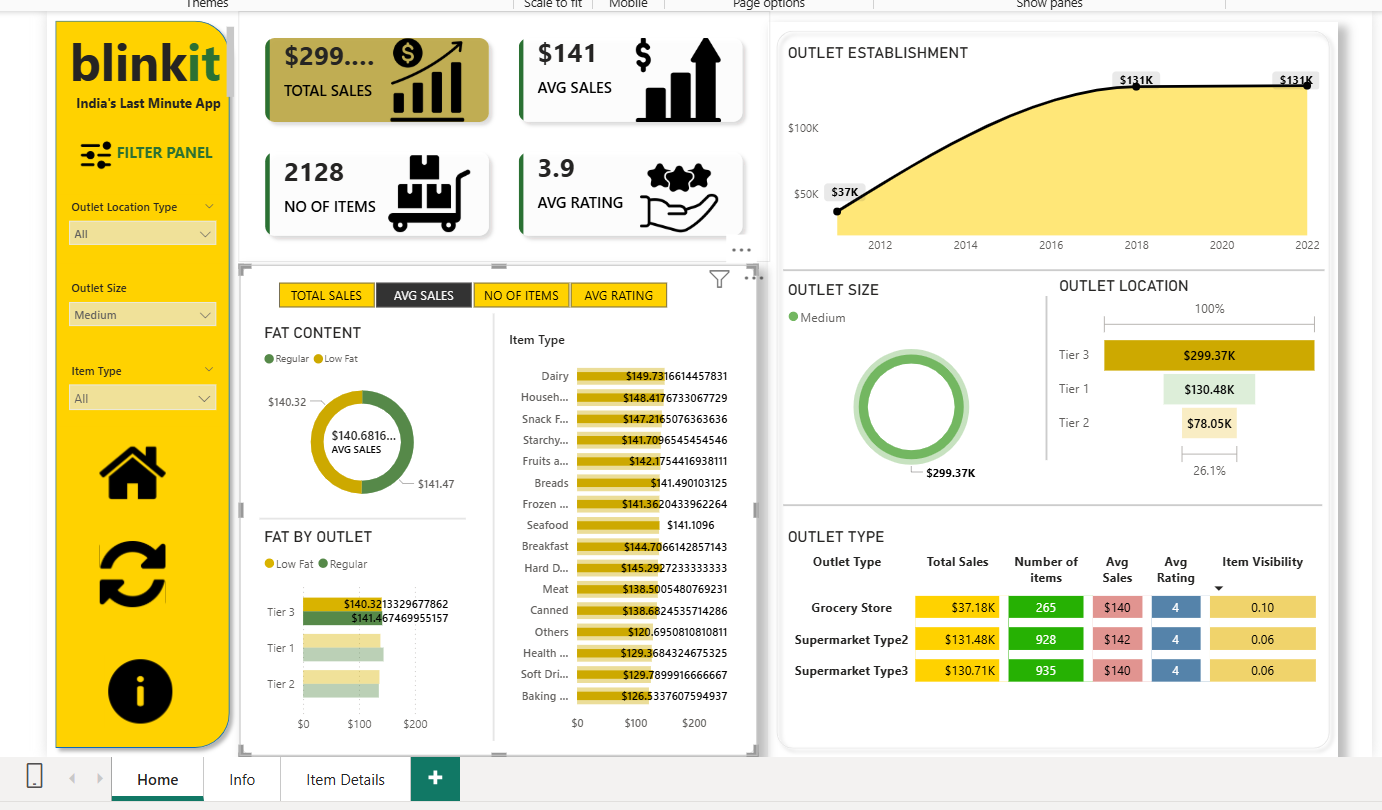

This screenshot's page, from the dashboard's own definition file:
{"tool":"powerbi","page":{"name":"Home","canvas":[1420,800],"ordinal":0},"visuals":[{"type":"shape","box":[0,1,205,798],"z":0},{"type":"textbox","box":[13.7,12.2,191.8,91.3],"z":1000},{"type":"textbox","box":[14,84,178.1,38],"z":2000},{"type":"cardVisual","fields":{"Data":["BlinkIT Grocery Data.TOTAL SALES","BlinkIT Grocery Data.AVG SALES","BlinkIT Grocery Data.NO OF ITEMS","BlinkIT Grocery Data.AVG RATING"]},"box":[205,0,570,270],"z":3000},{"type":"textbox","box":[70,135,122,38],"z":4000},{"type":"image","box":[35,135,35,38],"z":5000},{"type":"areaChart","title":" OUTLET ESTABLISHMENT","fields":{"Category":["BlinkIT Grocery Data.Outlet Establishment Year"],"Y":["BlinkIT Grocery Data.TOTAL SALES"]},"box":[789,35,580,235],"z":6000},{"type":"shape","box":[789,270,580.4,17],"z":7000},{"type":"donutChart","title":"OUTLET SIZE","fields":{"Y":["BlinkIT Grocery Data.TOTAL SALES"],"Category":["BlinkIT Grocery Data.Outlet Size"]},"box":[789,288.2,275,224],"z":8000},{"type":"shape","box":[1064,305,15,176],"z":9000},{"type":"funnel","title":"OUTLET LOCATION","fields":{"Category":["BlinkIT Grocery Data.Outlet Location Type"],"Y":["Sum(BlinkIT Grocery Data.Sales)"]},"box":[1080,284,289,224],"z":10000},{"type":"shape","box":[790,518,578,25],"z":11000},{"type":"pivotTable","title":"OUTLET TYPE","fields":{"Rows":["BlinkIT Grocery Data.Outlet Type"],"Values":["BlinkIT Grocery Data.TOTAL SALES","BlinkIT Grocery Data.NO OF ITEMS","BlinkIT Grocery Data.AVG SALES","BlinkIT Grocery Data.AVG RATING","Avg(BlinkIT Grocery Data.Item Visibility)"]},"box":[790,553,580,217.6],"z":12000},{"type":"shape","box":[774,12.5,611.1,788],"z":13000},{"type":"barChart","title":" Item Type","fields":{"Y":["BlinkIT Grocery Data.TOTAL SALES"],"Category":["BlinkIT Grocery Data.Item Type"]},"box":[490.3,343.1,258.3,438.9],"z":14000},{"type":"donutChart","title":"FAT CONTENT","fields":{"Y":["BlinkIT Grocery Data.TOTAL SALES"],"Category":["BlinkIT Grocery Data.Item Fat Content"]},"box":[227.3,335.1,220.8,207.8],"z":15000},{"type":"clusteredBarChart","title":"FAT BY OUTLET","fields":{"Y":["BlinkIT Grocery Data.TOTAL SALES"],"Category":["BlinkIT Grocery Data.Outlet Location Type"],"Series":["BlinkIT Grocery Data.Item Fat Content"]},"box":[227.3,553.2,221,229],"z":16000},{"type":"slicer","fields":{"Values":["Metrics.Metrics"]},"box":[223,284,466,39],"z":17000},{"type":"cardVisual","fields":{"Data":["BlinkIT Grocery Data.TOTAL SALES"]},"box":[288.3,427.3,107.8,67.5],"z":18000},{"type":"shape","box":[227.6,534.8,221.2,19.1],"z":19000},{"type":"shape","box":[467.9,324.7,22.3,458.4],"z":20000},{"type":"shape","box":[206,272,555,527],"z":21000},{"type":"slicer","fields":{"Values":["BlinkIT Grocery Data.Outlet Location Type"]},"box":[14,197.5,178.2,73.4],"z":22000},{"type":"slicer","fields":{"Values":["BlinkIT Grocery Data.Outlet Size"]},"box":[14,284.8,178.2,73.4],"z":23000},{"type":"slicer","fields":{"Values":["BlinkIT Grocery Data.Item Type"]},"box":[13,372,178,73],"z":24000},{"type":"actionButton","box":[52,564,79,79],"z":25000},{"type":"actionButton","box":[52,456,79,79],"z":26000},{"type":"actionButton","box":[61.1,690.3,77,79],"z":27000}]}

Visuals, with their boxes on the page's 1420x800 design canvas (x1, y1, x2, y2). These are canvas units, not pixel positions in the 1382x810 screenshot, which may show the page scaled, cropped or inside an application window:
shape: box(0, 1, 205, 799)
textbox: box(14, 12, 206, 104)
textbox: box(14, 84, 192, 122)
cardVisual - BlinkIT Grocery Data.TOTAL SALES x BlinkIT Grocery Data.AVG SALES: box(205, 0, 775, 270)
textbox: box(70, 135, 192, 173)
image: box(35, 135, 70, 173)
" OUTLET ESTABLISHMENT" areaChart: box(789, 35, 1369, 270)
shape: box(789, 270, 1369, 287)
"OUTLET SIZE" donutChart: box(789, 288, 1064, 512)
shape: box(1064, 305, 1079, 481)
"OUTLET LOCATION" funnel: box(1080, 284, 1369, 508)
shape: box(790, 518, 1368, 543)
"OUTLET TYPE" pivotTable: box(790, 553, 1370, 771)
shape: box(774, 12, 1385, 800)
" Item Type" barChart: box(490, 343, 749, 782)
"FAT CONTENT" donutChart: box(227, 335, 448, 543)
"FAT BY OUTLET" clusteredBarChart: box(227, 553, 448, 782)
slicer - Metrics.Metrics: box(223, 284, 689, 323)
cardVisual - BlinkIT Grocery Data.TOTAL SALES: box(288, 427, 396, 495)
shape: box(228, 535, 449, 554)
shape: box(468, 325, 490, 783)
shape: box(206, 272, 761, 799)
slicer - BlinkIT Grocery Data.Outlet Location Type: box(14, 198, 192, 271)
slicer - BlinkIT Grocery Data.Outlet Size: box(14, 285, 192, 358)
slicer - BlinkIT Grocery Data.Item Type: box(13, 372, 191, 445)
actionButton: box(52, 564, 131, 643)
actionButton: box(52, 456, 131, 535)
actionButton: box(61, 690, 138, 769)
